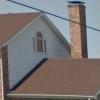Chimney: (62, 2, 97, 57)
